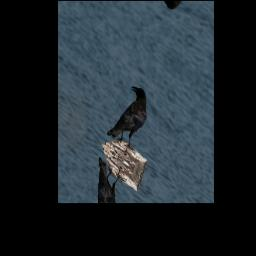Crow: (106, 75, 154, 157)
